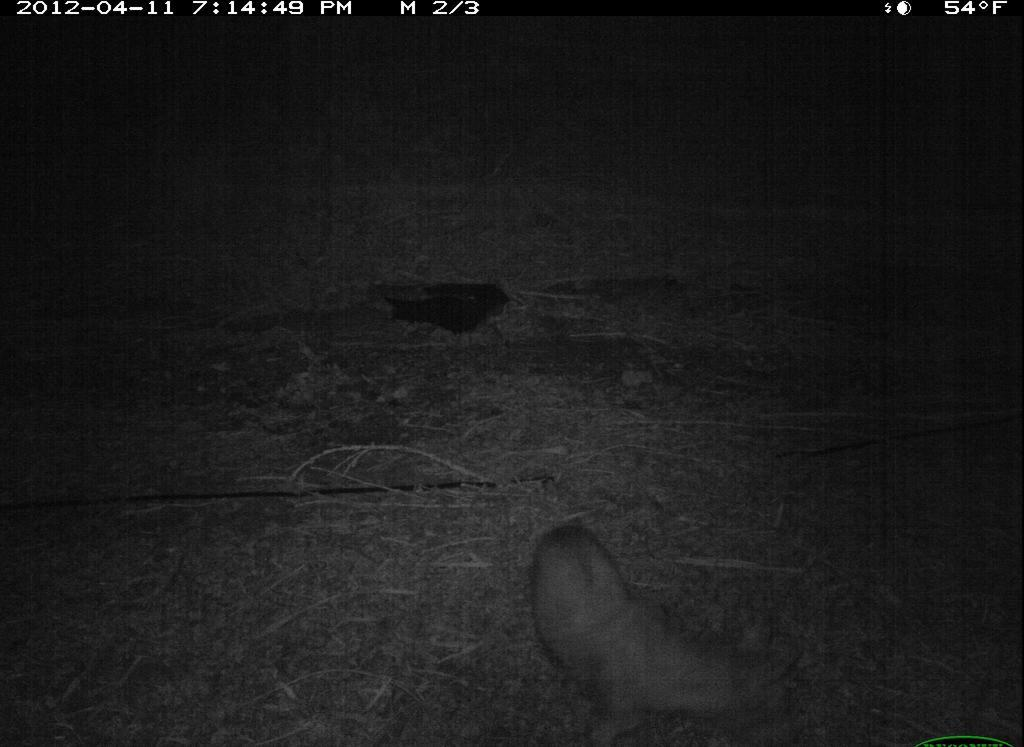coyote: (530, 519, 809, 747)
